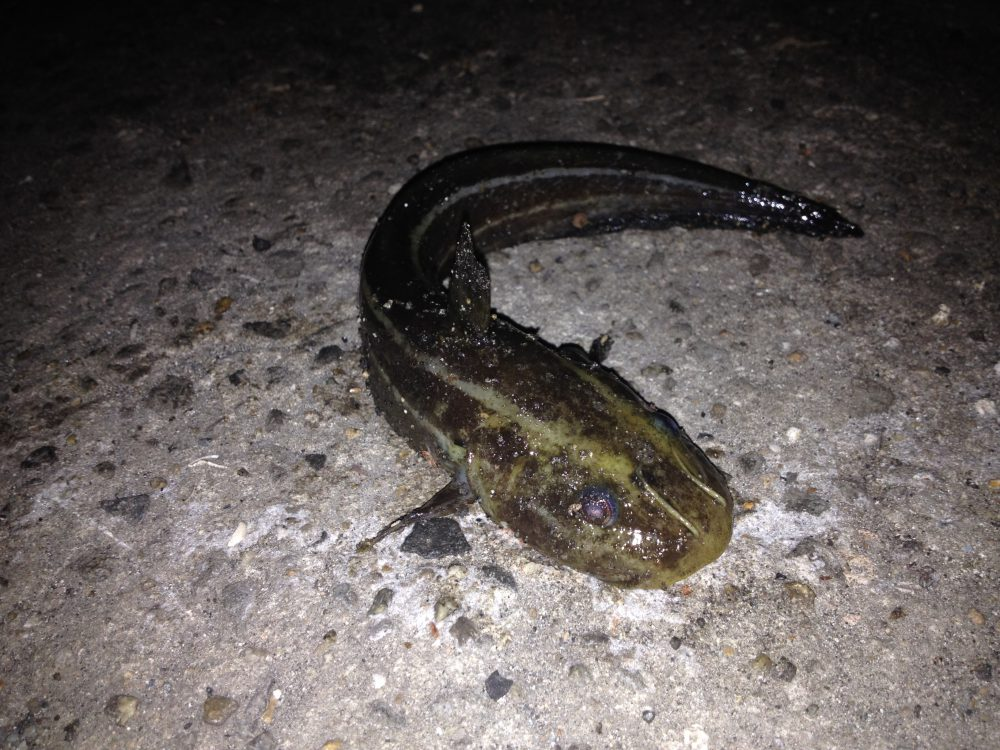gonzui: (338, 110, 876, 636)
